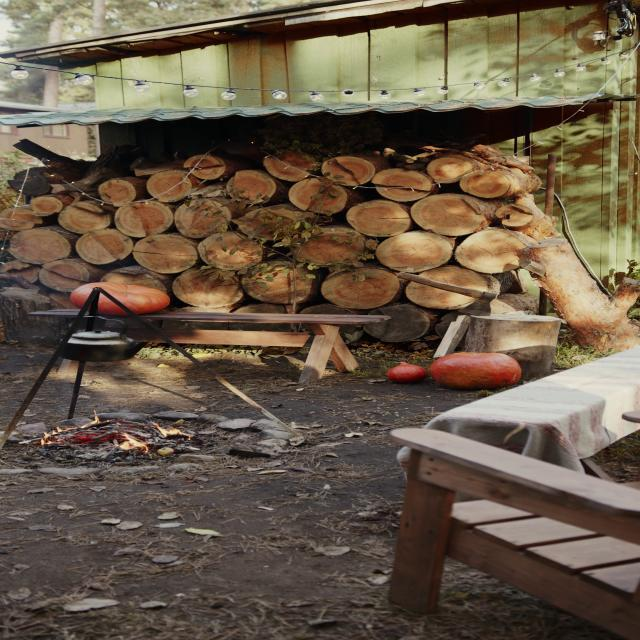Fire: (34, 405, 196, 457)
